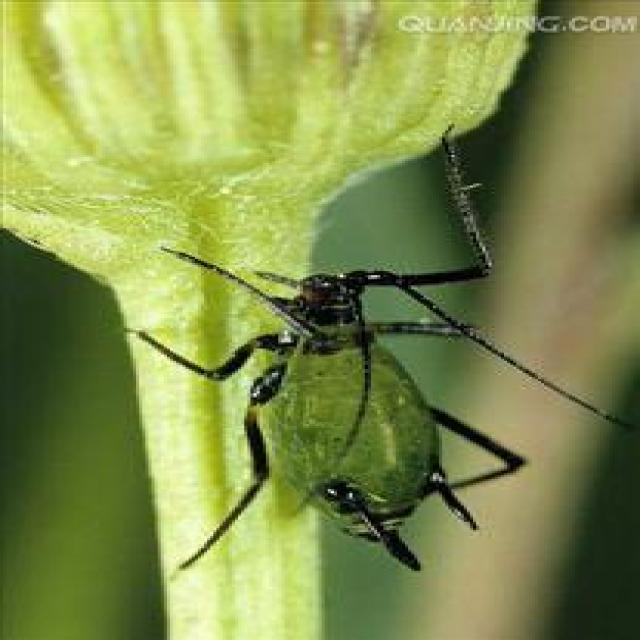Aphids: (134, 144, 616, 582)
